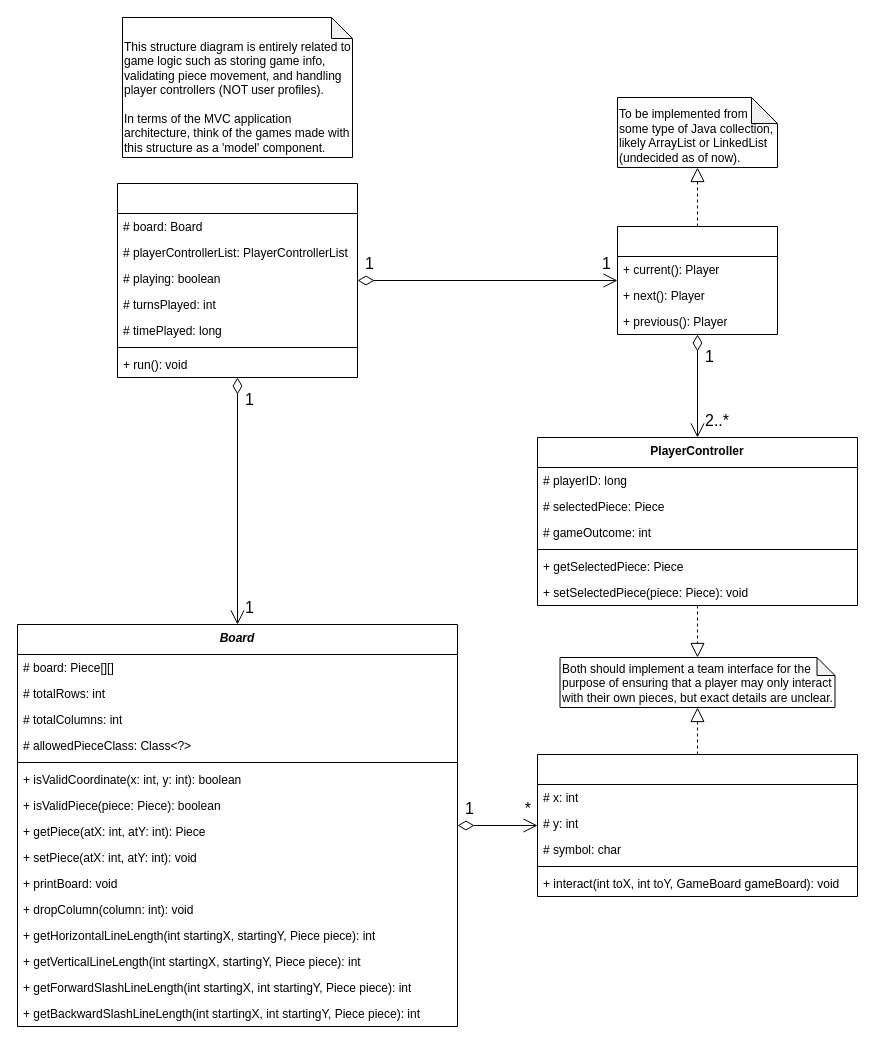
Some shapes in this 875 by 1047 pixel diagram are drawn without their labels. The box of each missing label's shape, as (x1, y1, x2, y2) in pixels:
Game: (116, 182, 358, 378)
Piece: (536, 754, 858, 896)
PlayerControllerList: (616, 226, 778, 334)
